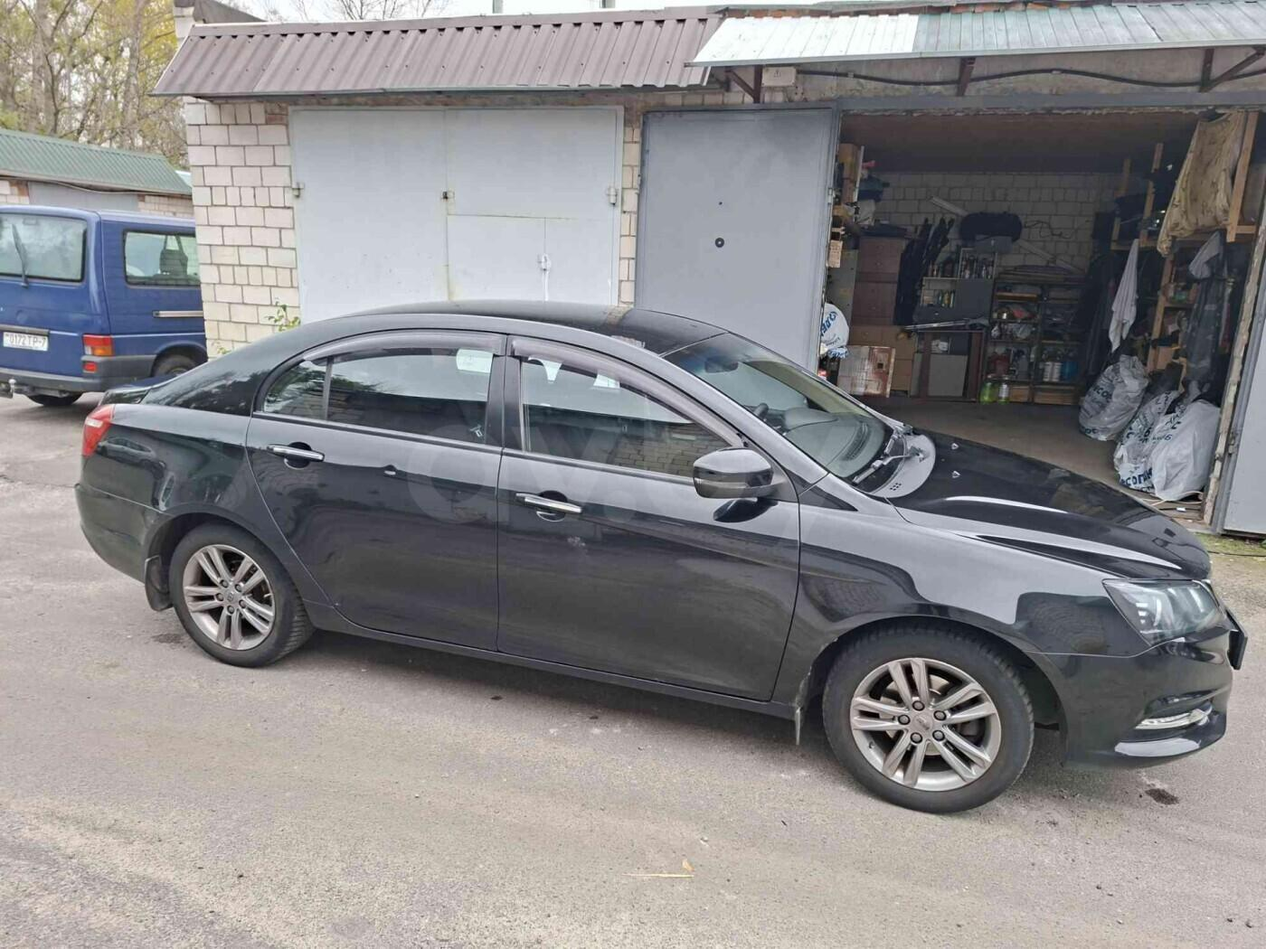Emgrand_2019-2021: (76, 300, 1246, 812)
